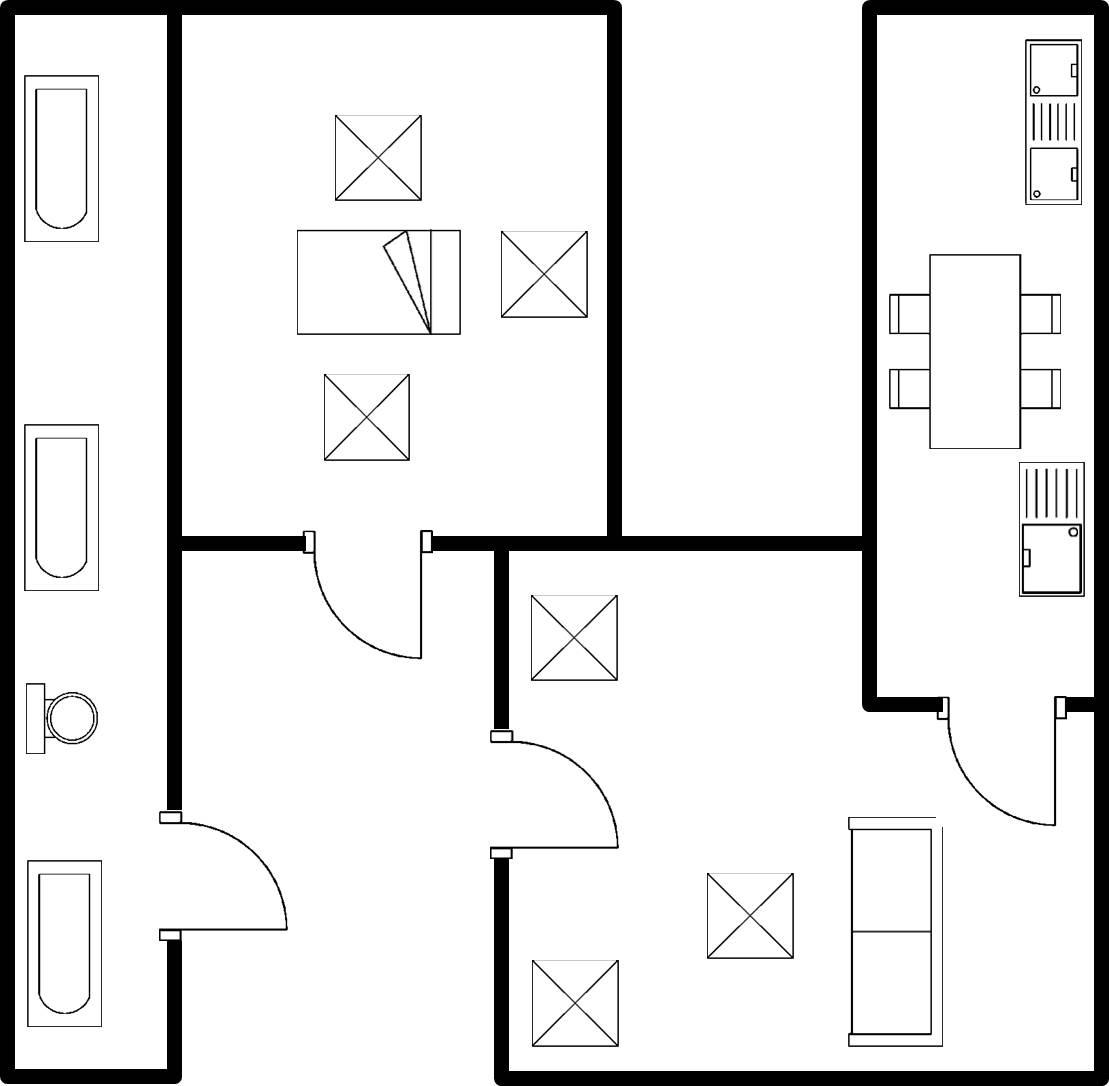sink: (1017, 32, 1089, 217)
